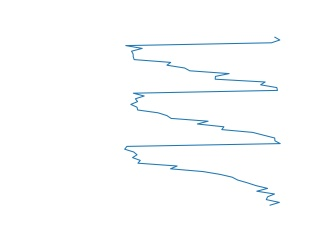distributaryMouthBar: (123, 36, 284, 207)
